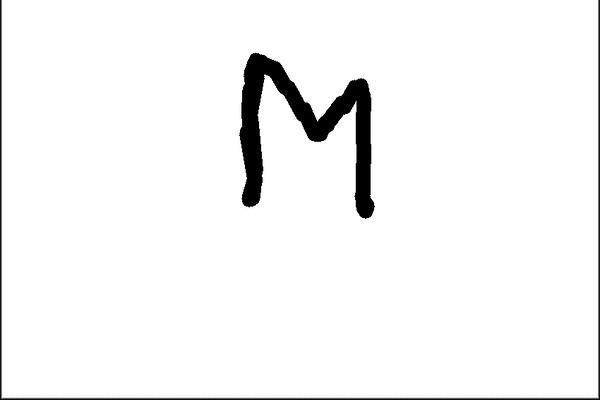M: (234, 48, 380, 220)
